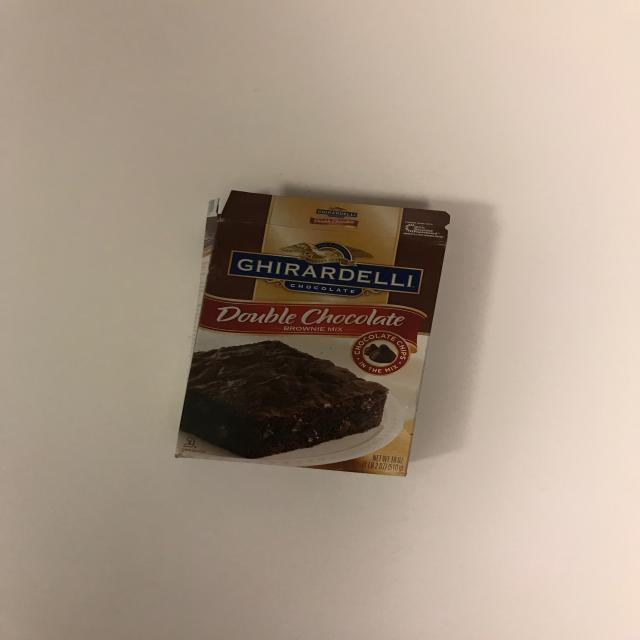paper: (166, 190, 456, 480)
